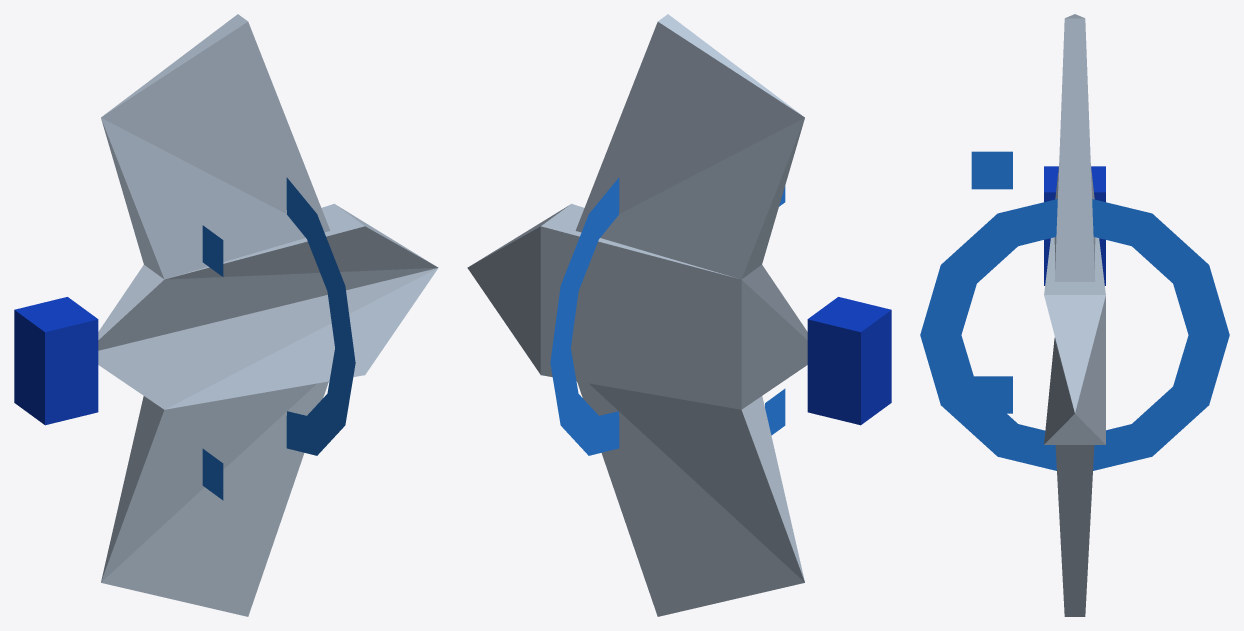
Rendered from destiny_lord_blockout.obj.
The picture shows the model from 3 angles, left to right: view 1: azimuth 30°, elevation 25°; view 2: azimuth 150°, elevation 25°; view 3: azimuth 270°, elevation 25°; orthographic projection.
Visible parts, largest first — view 1: Destiny_Lord_Main_Hull, Destiny_Lord_Port_Wing, Destiny_Lord_Starboard_Wing, Destiny_Lord_Engine_Block, Destiny_Lord_Fate_Ring, Destiny_Lord_Aura_Projector_Starboard, Destiny_Lord_Aura_Projector_Port; view 2: Destiny_Lord_Main_Hull, Destiny_Lord_Port_Wing, Destiny_Lord_Starboard_Wing, Destiny_Lord_Engine_Block, Destiny_Lord_Fate_Ring, Destiny_Lord_Aura_Projector_Starboard; view 3: Destiny_Lord_Fate_Ring, Destiny_Lord_Main_Hull, Destiny_Lord_Port_Wing, Destiny_Lord_Starboard_Wing, Destiny_Lord_Aura_Projector_Port, Destiny_Lord_Engine_Block, Destiny_Lord_Aura_Projector_Starboard.
Part boxes in pixels (box(x1,y1,x2,y2)): Destiny_Lord_Main_Hull: box(98, 203, 438, 409); Destiny_Lord_Port_Wing: box(101, 14, 330, 279); Destiny_Lord_Starboard_Wing: box(101, 381, 328, 616); Destiny_Lord_Engine_Block: box(14, 297, 98, 425); Destiny_Lord_Fate_Ring: box(286, 177, 355, 455); Destiny_Lord_Aura_Projector_Starboard: box(202, 448, 223, 500); Destiny_Lord_Aura_Projector_Port: box(202, 225, 223, 276); Destiny_Lord_Main_Hull: box(467, 203, 807, 409); Destiny_Lord_Port_Wing: box(575, 14, 804, 279); Destiny_Lord_Starboard_Wing: box(577, 381, 804, 616); Destiny_Lord_Engine_Block: box(807, 297, 891, 425); Destiny_Lord_Fate_Ring: box(550, 177, 619, 455); Destiny_Lord_Aura_Projector_Starboard: box(765, 388, 785, 435); Destiny_Lord_Fate_Ring: box(920, 199, 1229, 470); Destiny_Lord_Main_Hull: box(1044, 237, 1105, 444); Destiny_Lord_Port_Wing: box(1054, 14, 1095, 281); Destiny_Lord_Starboard_Wing: box(1055, 445, 1094, 616); Destiny_Lord_Aura_Projector_Port: box(971, 151, 1012, 189); Destiny_Lord_Engine_Block: box(1044, 166, 1105, 285); Destiny_Lord_Aura_Projector_Starboard: box(974, 376, 1012, 413).
Bounding box in the file's own units: 46 × 64 × 30.
